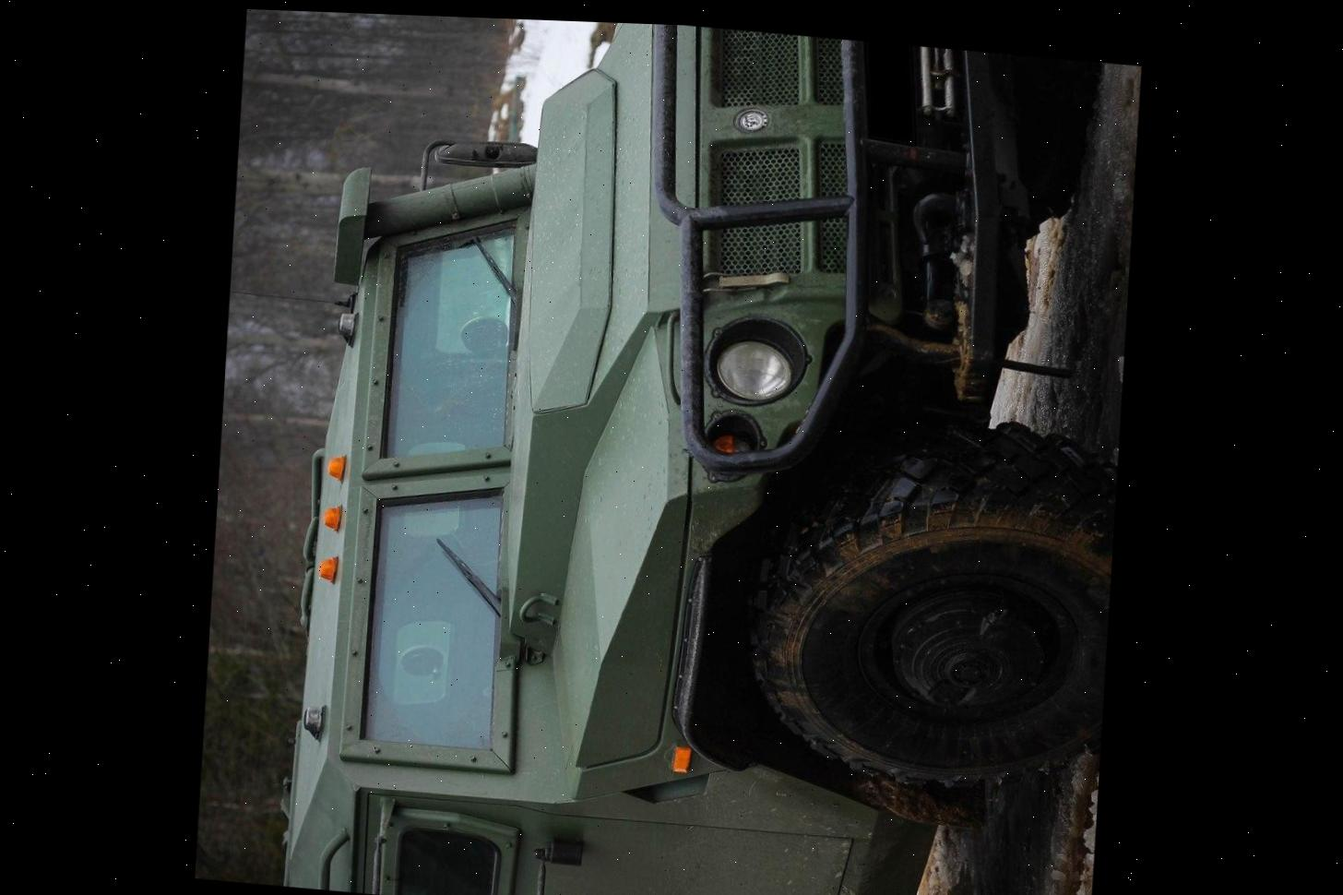armored_car: (264, 10, 1130, 895)
